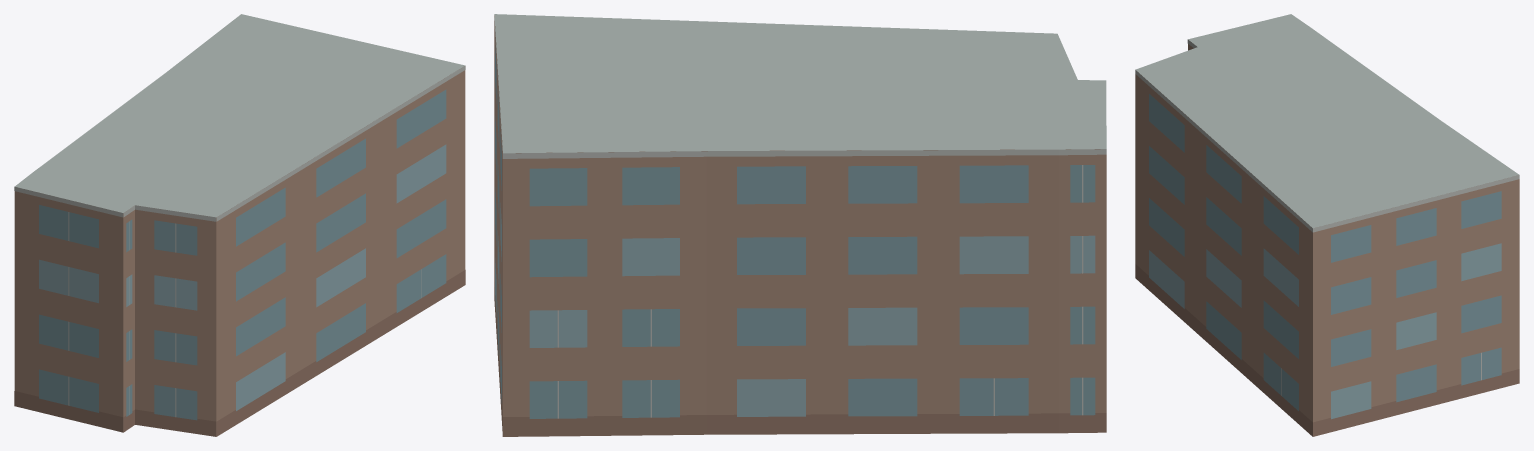
Rendered from survey-upis-33008570.glb.
3 renders of one model, left to right at view 1: azimuth 30°, elevation 25°; view 2: azimuth 150°, elevation 25°; view 3: azimuth 270°, elevation 25°, orthographic. The views are drawn at different scales.
Parts seen in each view (by area): view 1: survey-upis-33008570.tmp; view 2: survey-upis-33008570.tmp; view 3: survey-upis-33008570.tmp.
Part boxes in pixels (x1,y1,x2,y2): survey-upis-33008570.tmp: [14, 14, 465, 436]; survey-upis-33008570.tmp: [494, 14, 1106, 436]; survey-upis-33008570.tmp: [1135, 14, 1519, 436].
Bounding box in the file's own units: 26.68 × 12.1 × 20.21.
